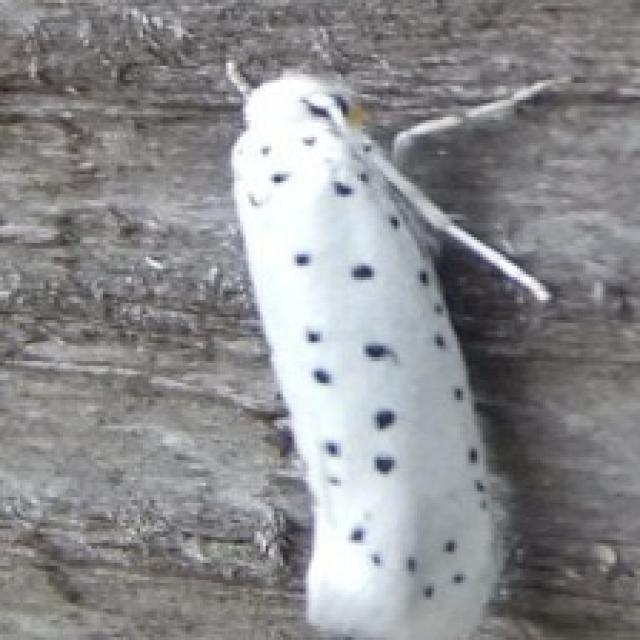butterfly: (217, 54, 637, 637)
